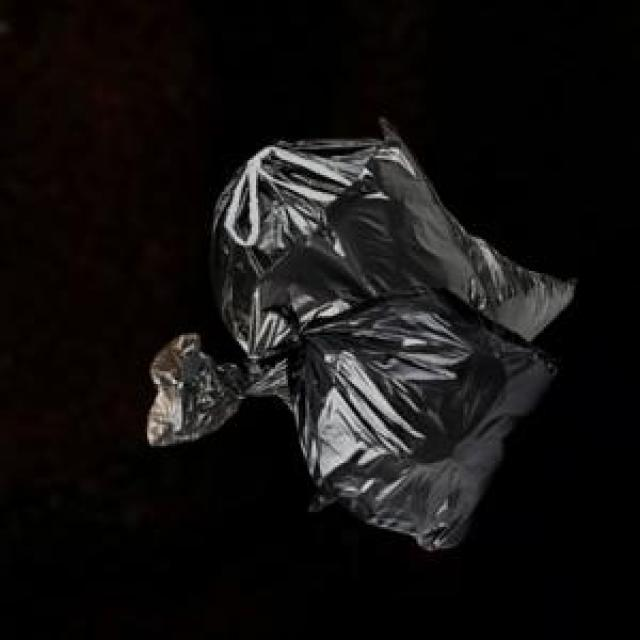garbage_bag: (141, 115, 579, 553)
